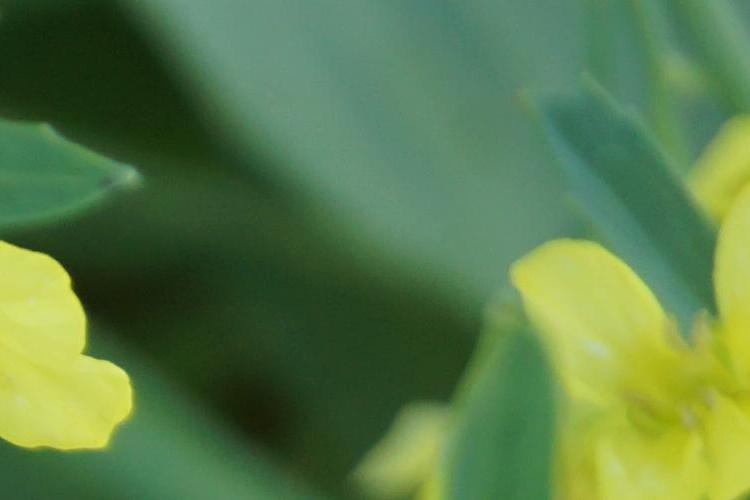yellow: (522, 190, 749, 500), (2, 241, 141, 456)
